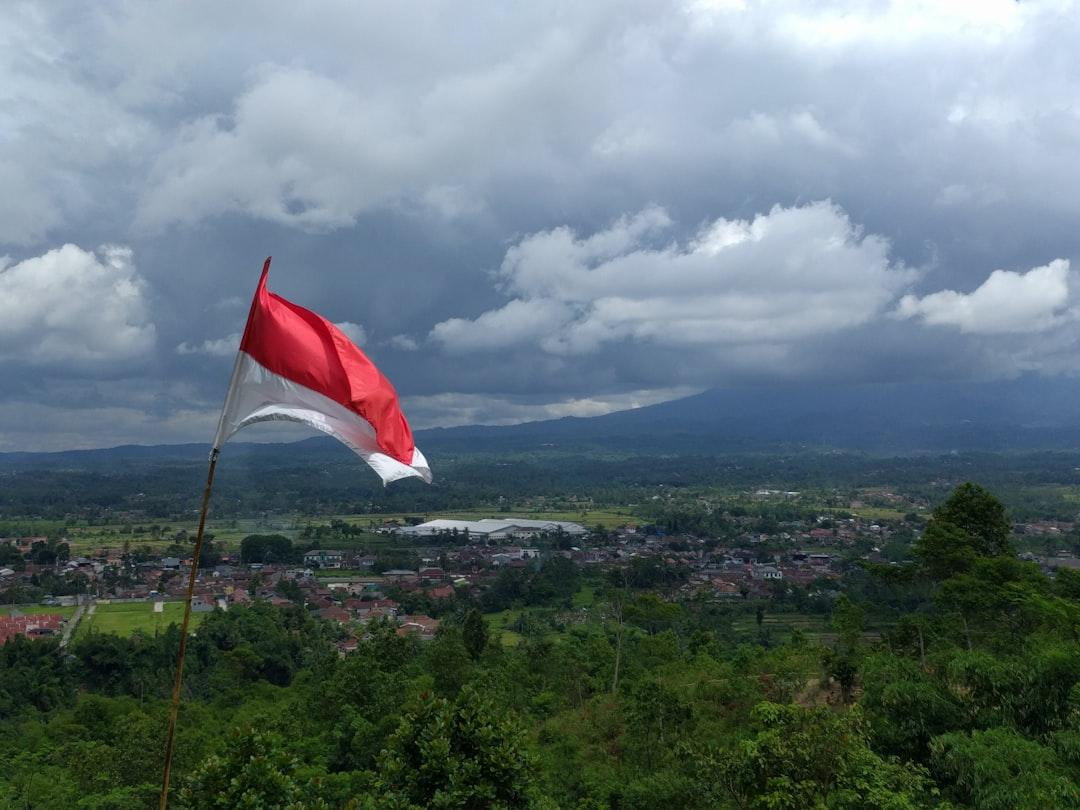Indonesia: (213, 274, 435, 490)
